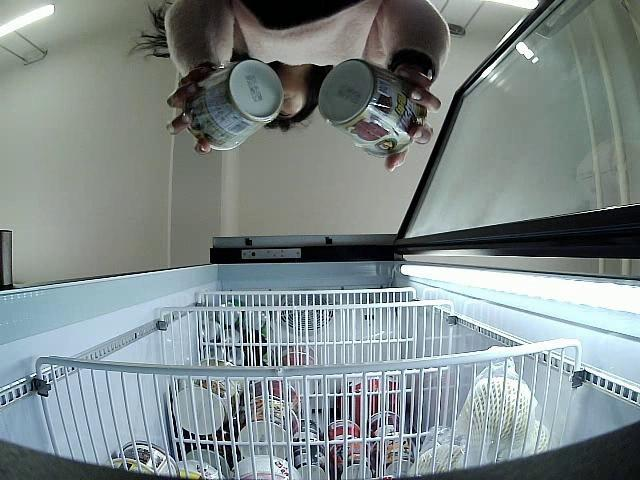04_chapagetti_S: (315, 58, 428, 159), (186, 59, 282, 152)
